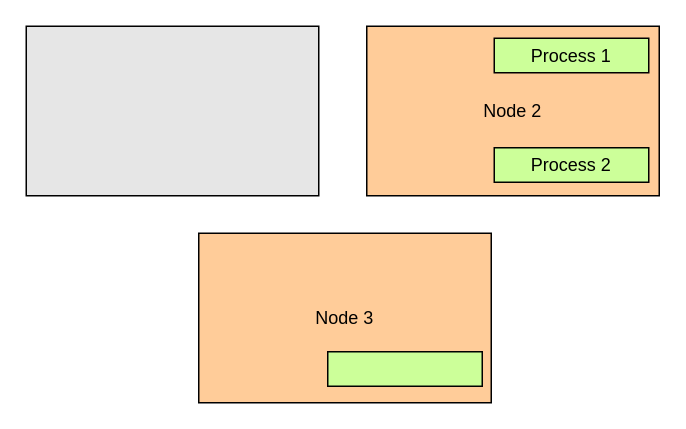
Some shapes in this 686 by 429 pixel diagram are drawn without their labels. Each missing label, with the centre of its shape:
"Node 1" goes at (172,110).
"Process 3" goes at (404,368).
